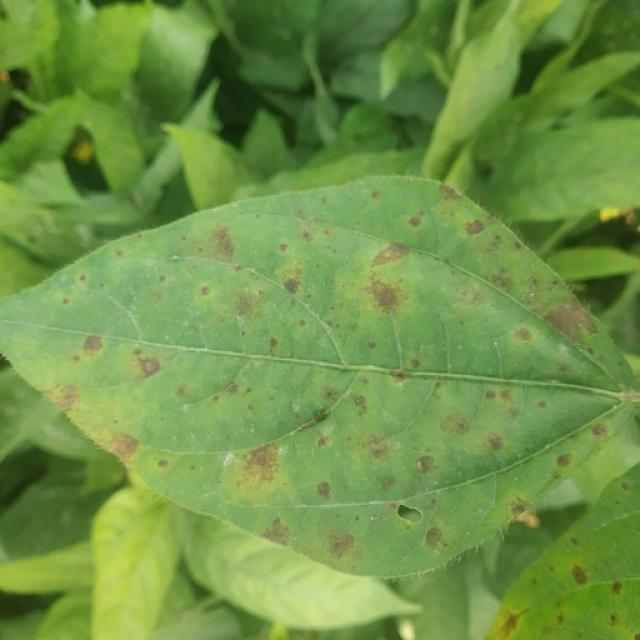Anthracnose: (541, 298, 597, 344), (243, 445, 277, 482), (370, 274, 403, 310), (370, 242, 411, 267), (209, 224, 237, 258), (261, 516, 291, 546), (109, 432, 140, 460), (233, 289, 260, 321), (327, 531, 354, 560), (439, 414, 471, 437), (364, 435, 390, 461), (280, 265, 304, 293), (55, 383, 81, 408), (508, 497, 534, 522), (424, 526, 447, 550), (489, 270, 514, 292), (81, 333, 104, 356), (72, 140, 94, 163), (499, 614, 520, 638), (437, 183, 461, 201), (617, 389, 640, 407), (474, 159, 495, 178), (570, 564, 588, 585), (416, 455, 435, 474), (464, 219, 485, 236), (486, 434, 505, 452), (142, 357, 159, 376), (590, 422, 610, 438), (175, 383, 193, 399), (513, 327, 532, 342), (407, 212, 424, 228), (389, 370, 408, 384), (353, 394, 367, 413), (316, 481, 331, 498), (556, 453, 573, 467), (623, 210, 637, 227), (322, 387, 337, 402), (224, 381, 239, 395), (611, 580, 623, 595), (381, 477, 396, 489), (317, 434, 329, 448), (301, 230, 313, 242), (484, 389, 497, 400), (268, 337, 278, 351), (200, 285, 211, 296), (409, 358, 420, 369), (157, 458, 168, 469), (0, 71, 10, 82), (570, 537, 580, 547), (278, 243, 288, 252), (115, 249, 125, 258), (622, 482, 632, 491), (78, 273, 87, 282), (368, 340, 376, 349), (538, 400, 547, 408), (610, 614, 617, 624), (298, 319, 306, 327), (61, 298, 69, 305), (134, 348, 142, 355), (159, 275, 166, 282), (355, 515, 360, 522), (636, 635, 640, 640)
Blackgram: (0, 178, 634, 578)
